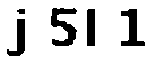1: (116, 7, 149, 51)
5: (46, 3, 78, 49)
j: (5, 4, 31, 60)
l: (82, 4, 104, 52)
